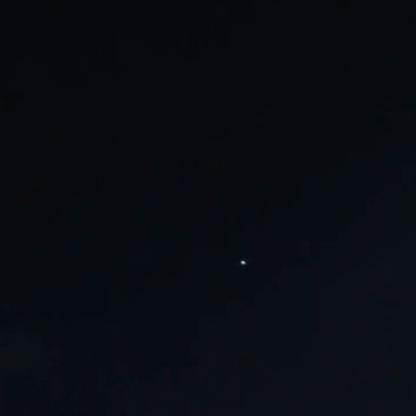ball: (236, 257, 252, 268)
